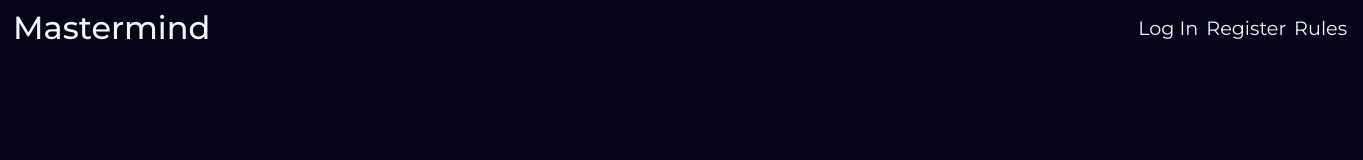
Test: Tests for Nav component › Rules link not present on logged in page
Click the link "Log In". click: {"x": 1168, "y": 28}
box: [1138,16,1198,40]
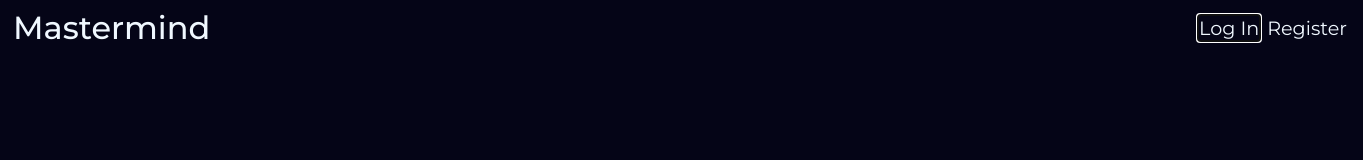
Expected: the list item "Rules" is gone
